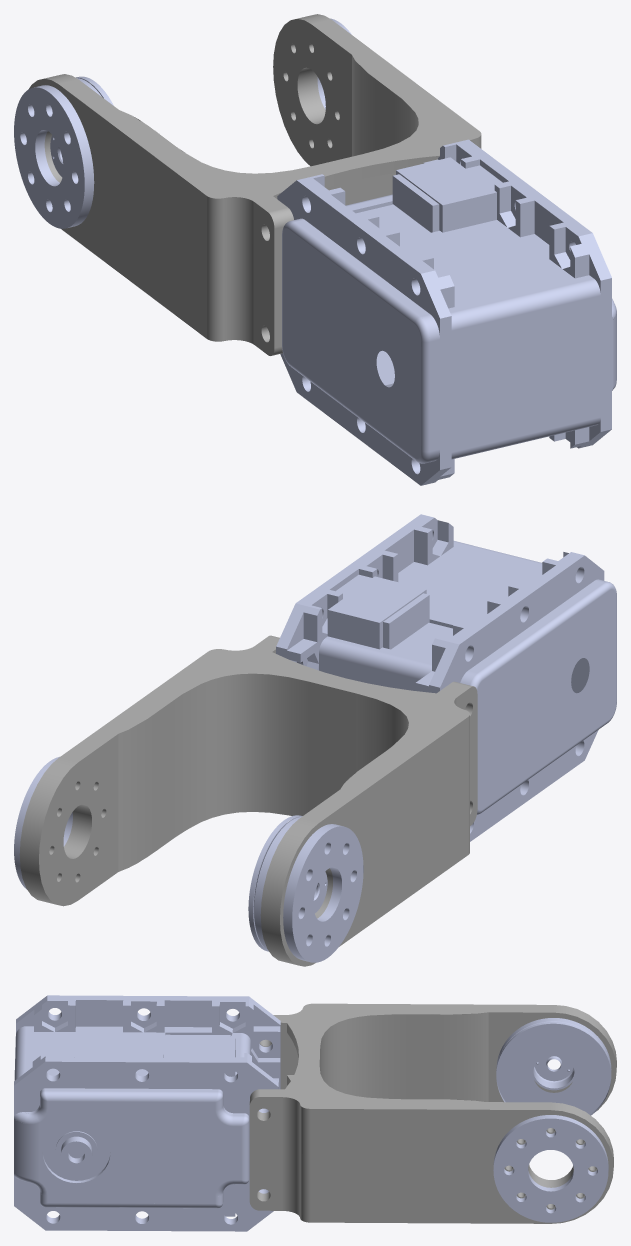
3 renders of one model, top to bottom at view 1: azimuth 30°, elevation 25°; view 2: azimuth 150°, elevation 25°; view 3: azimuth 270°, elevation 25°, orthographic. The views are drawn at different scales.
Parts seen in each view (by area): view 1: NONE_DC_Shell, Cut_Extrude11_DC_Shell, Boss_Extrude1_DC_Shell; view 2: Cut_Extrude11_DC_Shell, NONE_DC_Shell, Boss_Extrude1_DC_Shell; view 3: NONE_DC_Shell, Cut_Extrude11_DC_Shell, Boss_Extrude1_DC_Shell.
Boxes of the visible parts, <box> form: NONE_DC_Shell: <box>50,76,616,485</box>; Cut_Extrude11_DC_Shell: <box>28,14,481,355</box>; Boss_Extrude1_DC_Shell: <box>14,18,351,228</box>; Cut_Extrude11_DC_Shell: <box>19,635,477,966</box>; NONE_DC_Shell: <box>248,514,616,951</box>; Boss_Extrude1_DC_Shell: <box>14,756,363,962</box>; NONE_DC_Shell: <box>14,995,611,1231</box>; Cut_Extrude11_DC_Shell: <box>249,1003,616,1223</box>; Boss_Extrude1_DC_Shell: <box>493,1115,608,1222</box>.
Size of the model in its own units: 51.17 by 35.6 by 115.
